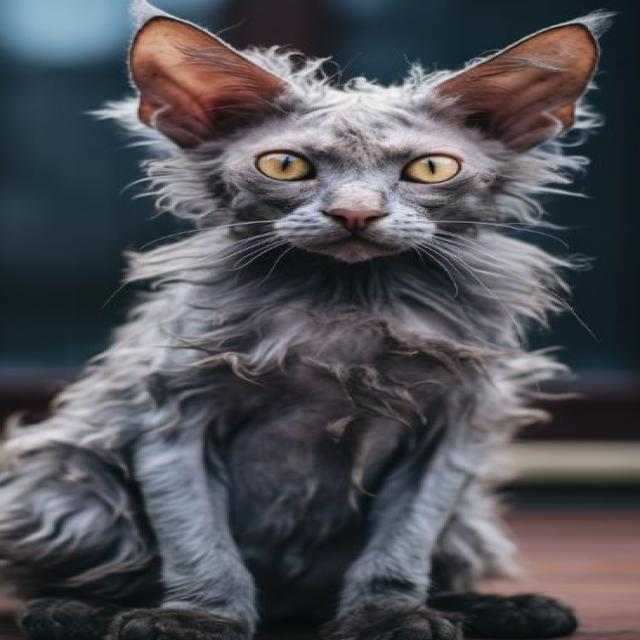Lykoi: (0, 4, 609, 640)
